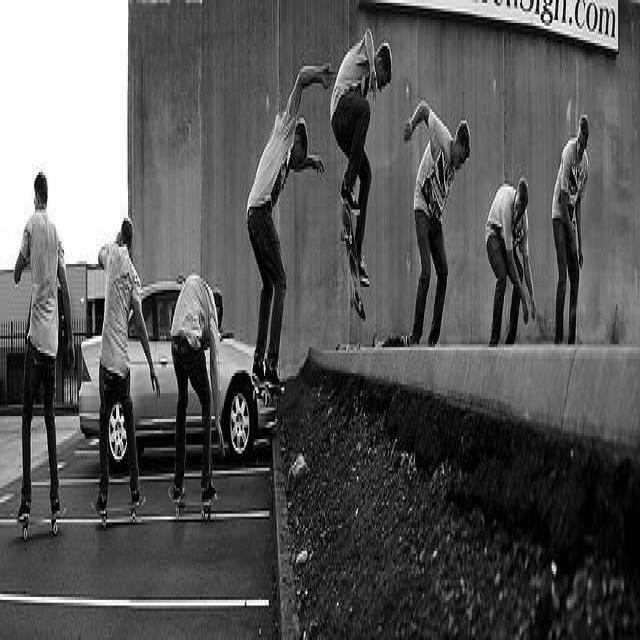vehicle: (79, 281, 278, 469)
